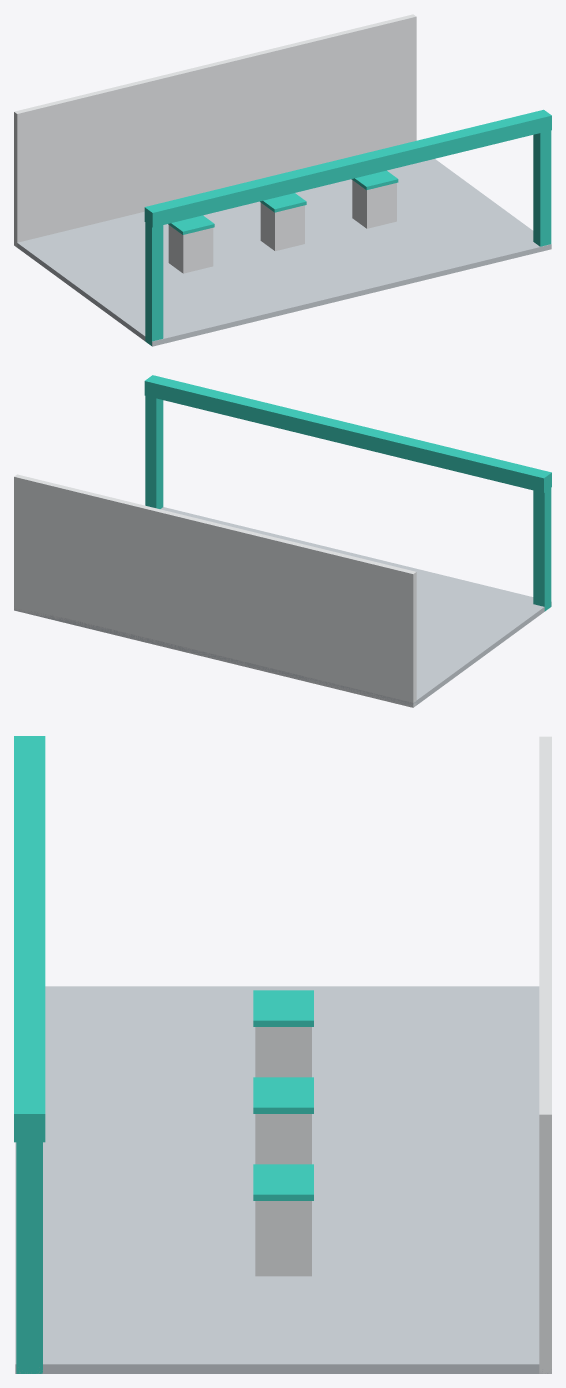
The picture shows the model from 3 angles, top to bottom: view 1: azimuth 30°, elevation 25°; view 2: azimuth 150°, elevation 25°; view 3: azimuth 270°, elevation 25°; orthographic projection. The views are drawn at different scales.
Parts seen in each view (by area): view 1: Exhibition Booth Concept; view 2: Exhibition Booth Concept; view 3: Exhibition Booth Concept.
Part boxes in pixels (x1=…): Exhibition Booth Concept: x1=14, y1=14, x2=551, y2=346; Exhibition Booth Concept: x1=14, y1=375, x2=551, y2=707; Exhibition Booth Concept: x1=14, y1=736, x2=551, y2=1373.
Size of the model in its own units: 10 by 3.2 by 6.02.
